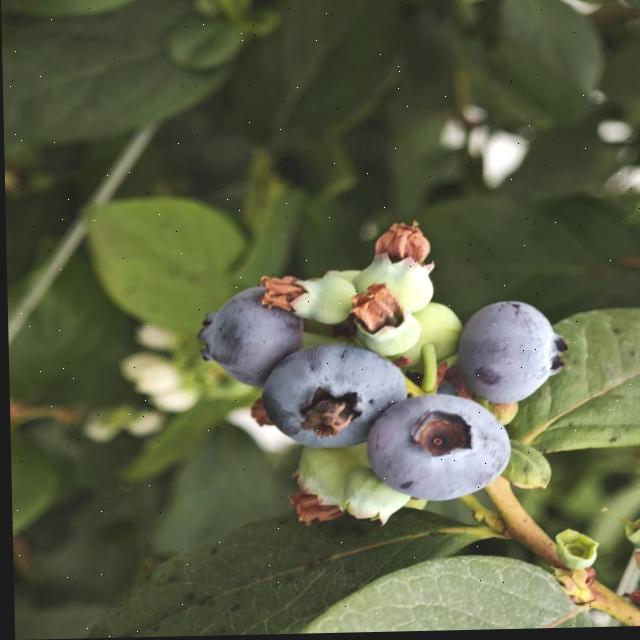RipeBlueBerry: (360, 392, 510, 507), (257, 343, 407, 456), (451, 300, 566, 408), (191, 283, 305, 391)
